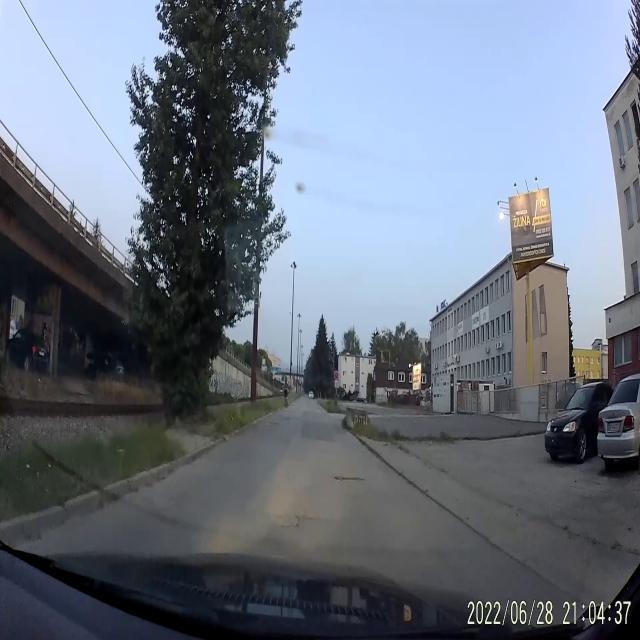Pothole: (330, 473, 367, 482), (265, 421, 272, 426)
